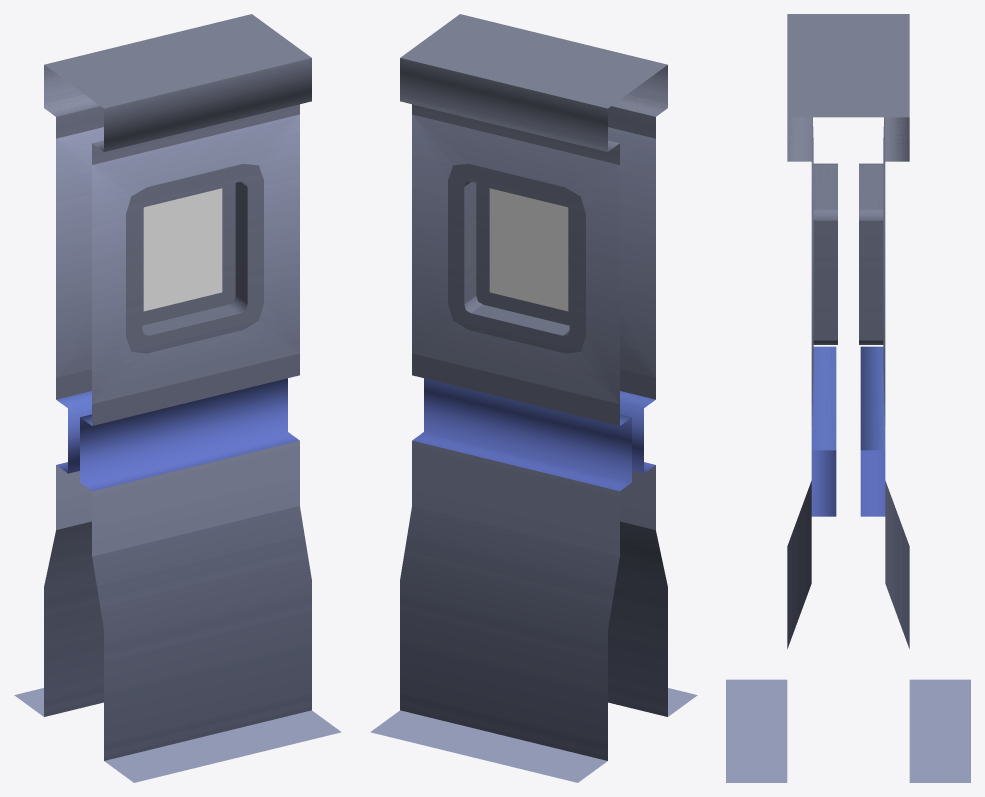
File: wall-windowed.glb
The picture shows the model from 3 angles, left to right: view 1: azimuth 30°, elevation 25°; view 2: azimuth 150°, elevation 25°; view 3: azimuth 270°, elevation 25°; orthographic projection. The views are drawn at different scales.
Parts seen in each view (by area): view 1: wall-window; view 2: wall-window; view 3: wall-window.
Boxes of the visible parts, x1,y1,x2,y2 form: wall-window: (14, 14, 341, 782); wall-window: (370, 14, 697, 782); wall-window: (726, 14, 970, 782).
Size of the model in its own units: 1 by 3 by 1.
Materials: 2 (2 with a texture image).
